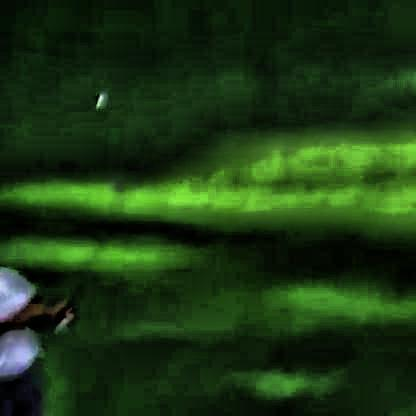golfball: (92, 81, 105, 105)
